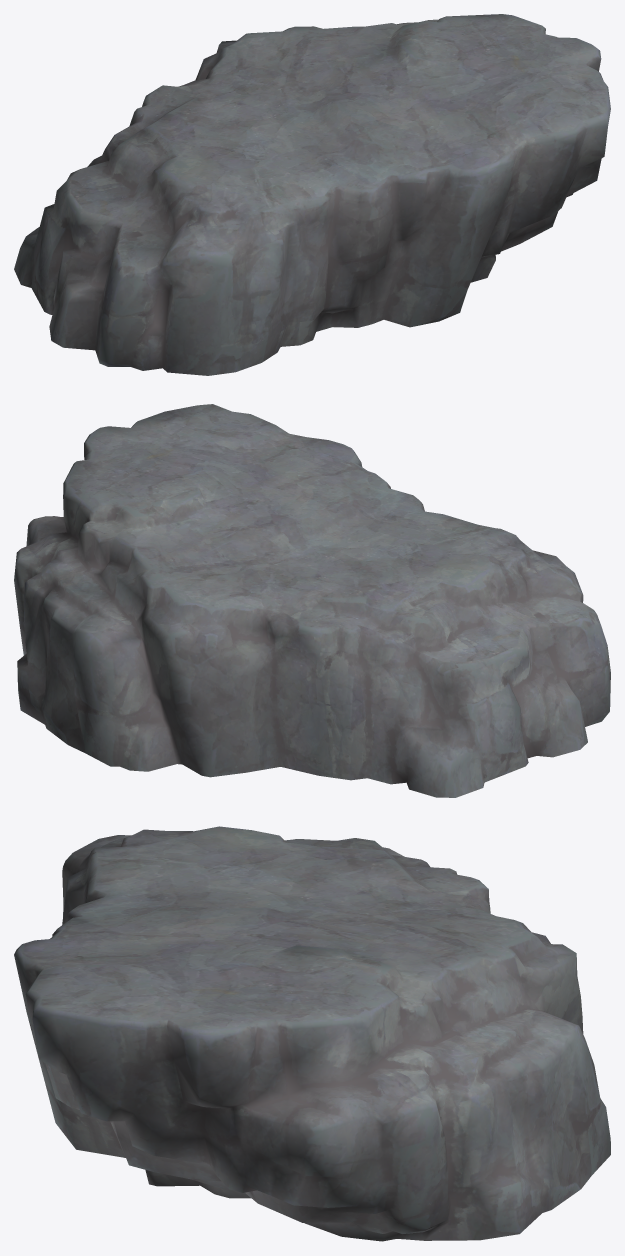
File: stone-1.fbx
3 views of the same model, one above another, from view 1: azimuth 30°, elevation 25°; view 2: azimuth 150°, elevation 25°; view 3: azimuth 270°, elevation 25° (orthographic). The views are drawn at different scales.
Parts seen in each view (by area): view 1: Area_Ly_Stone_CSPY_Ground_M_01_Lod0; view 2: Area_Ly_Stone_CSPY_Ground_M_01_Lod0; view 3: Area_Ly_Stone_CSPY_Ground_M_01_Lod0.
Part boxes in pixels (<box>): Area_Ly_Stone_CSPY_Ground_M_01_Lod0: <box>14,14,610,375</box>; Area_Ly_Stone_CSPY_Ground_M_01_Lod0: <box>14,404,610,797</box>; Area_Ly_Stone_CSPY_Ground_M_01_Lod0: <box>14,826,610,1241</box>.
Size of the model in its own units: 1365 by 443 by 1027.
1 material, 1 textured.
